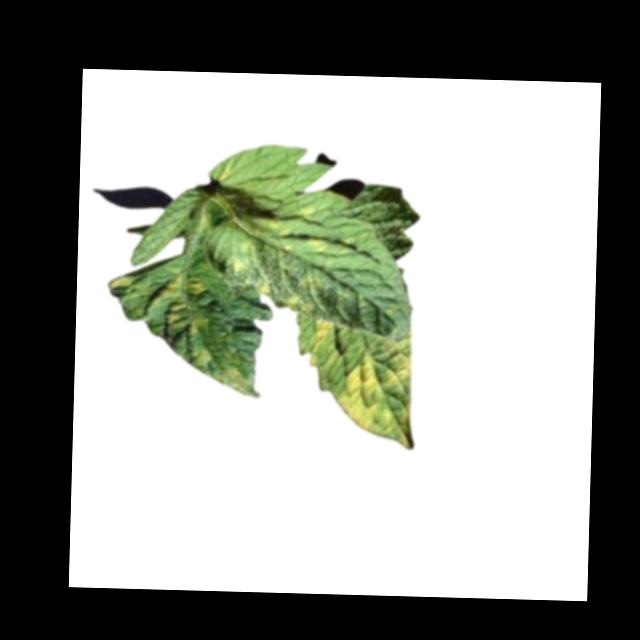Leaf_Mold: (332, 332, 417, 451), (146, 275, 207, 339), (210, 350, 261, 398), (279, 274, 325, 316), (305, 321, 330, 372), (291, 201, 319, 227), (105, 276, 137, 297), (188, 346, 209, 369), (303, 234, 326, 254)
